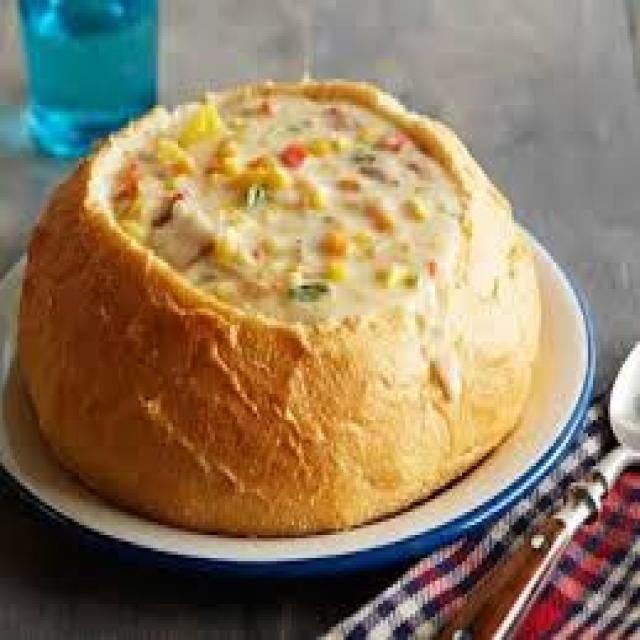Organik: (31, 67, 550, 512)
